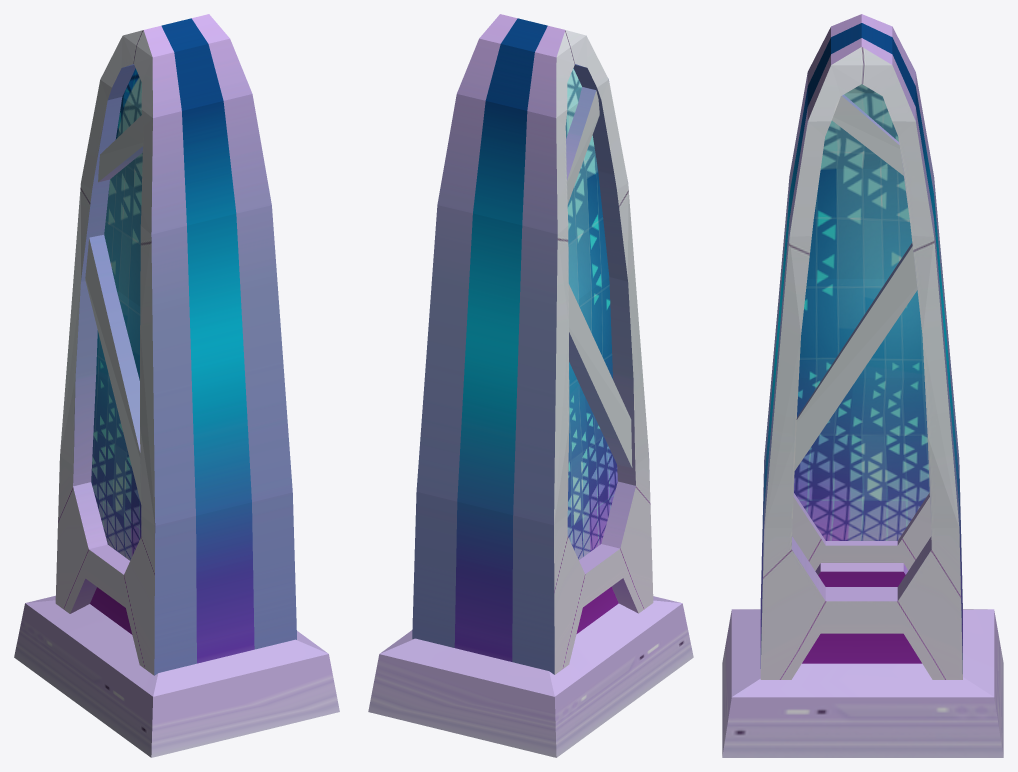
Rendered from city_tower_b.glb.
3 renders of one model, left to right at view 1: azimuth 30°, elevation 25°; view 2: azimuth 150°, elevation 25°; view 3: azimuth 270°, elevation 25°, orthographic. The views are drawn at different scales.
Visible parts, largest first — view 1: P00, P01; view 2: P00, P01; view 3: P00, P01.
Part boxes in pixels (x1,y1,x2,y2): P00: (55,14,296,675); P01: (14,595,339,757); P00: (412,14,653,674); P01: (368,596,693,757); P00: (760,14,962,679); P01: (722,609,1003,757).
Size of the model in its own units: 13.66 by 45.92 by 17.23.
Materials: 2 (2 with a texture image).
